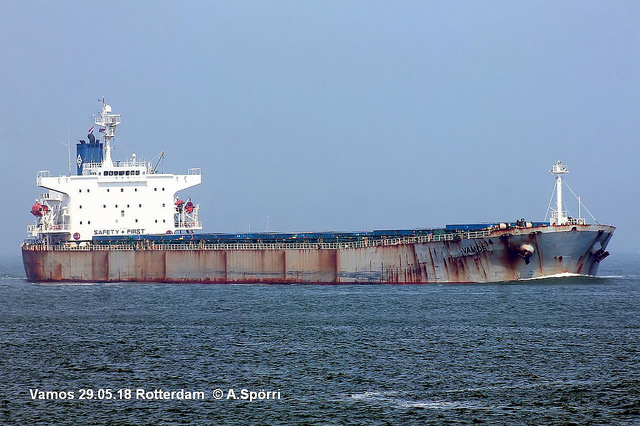bulk carrier: (23, 100, 622, 282)
